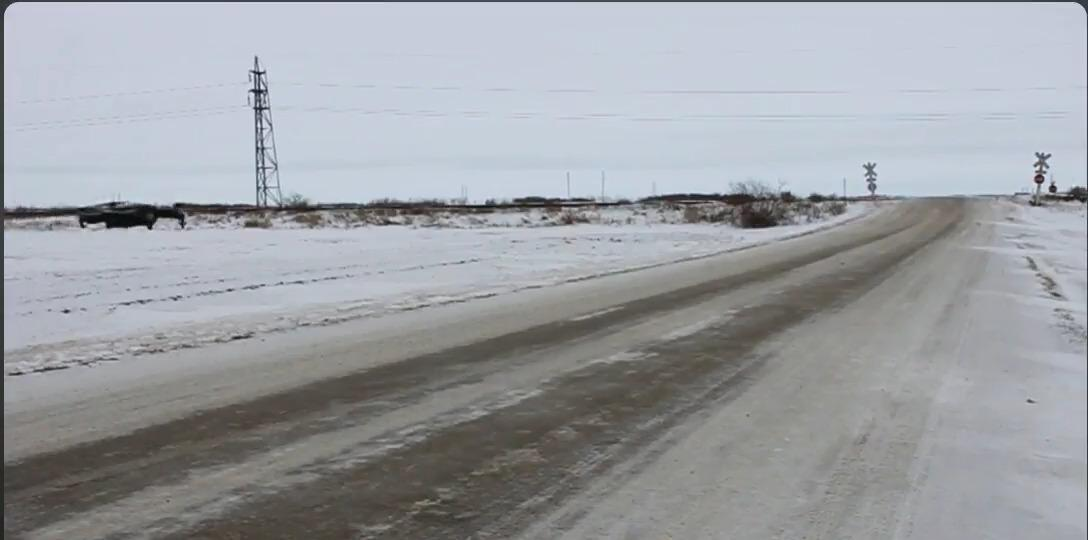dr: (72, 196, 192, 233)
